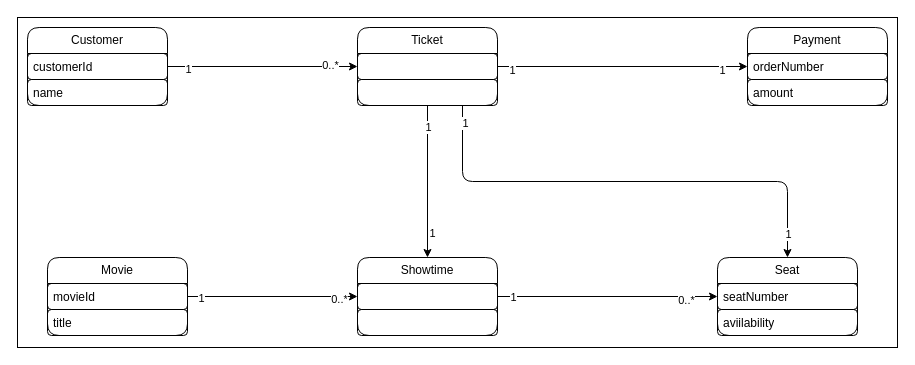
The diagram is 915 pixels wide and 365 high, and some of its shapes have lost their labels. Here are the shapes that lost their labels. From the top down, the centre of each, then its label:
(x=427, y=66): ticketNumber
(x=427, y=92): status
(x=427, y=296): showtimeId
(x=427, y=322): startTime
